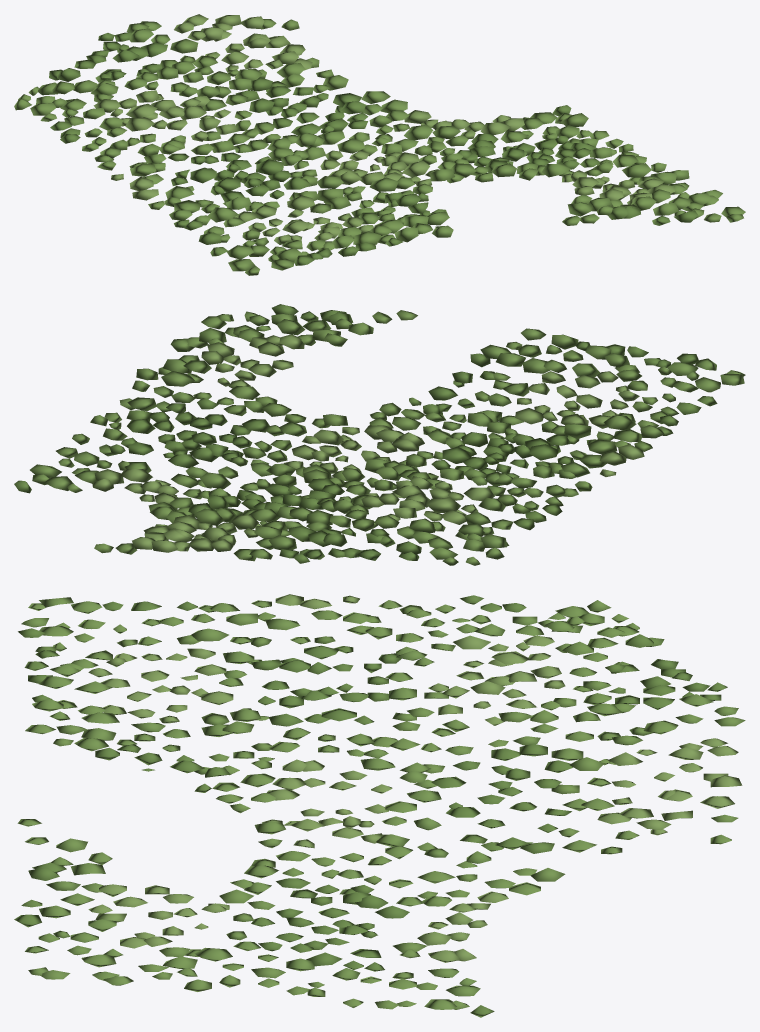
The model's file is canopy-1-2--2.glb.
3 renders of one model, top to bottom at view 1: azimuth 30°, elevation 25°; view 2: azimuth 150°, elevation 25°; view 3: azimuth 270°, elevation 25°, orthographic. The views are drawn at different scales.
Size of the model in its own units: 515 by 100 by 518.
Materials: 1 (1 with a texture image).
